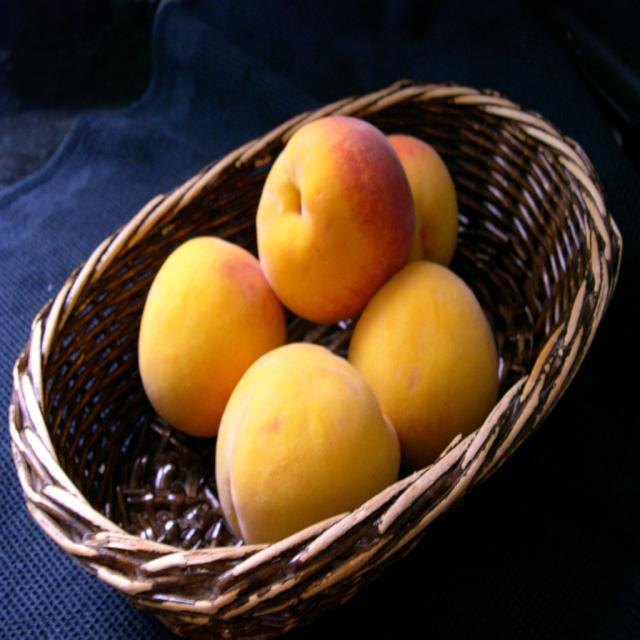Peach: (136, 112, 498, 549)
